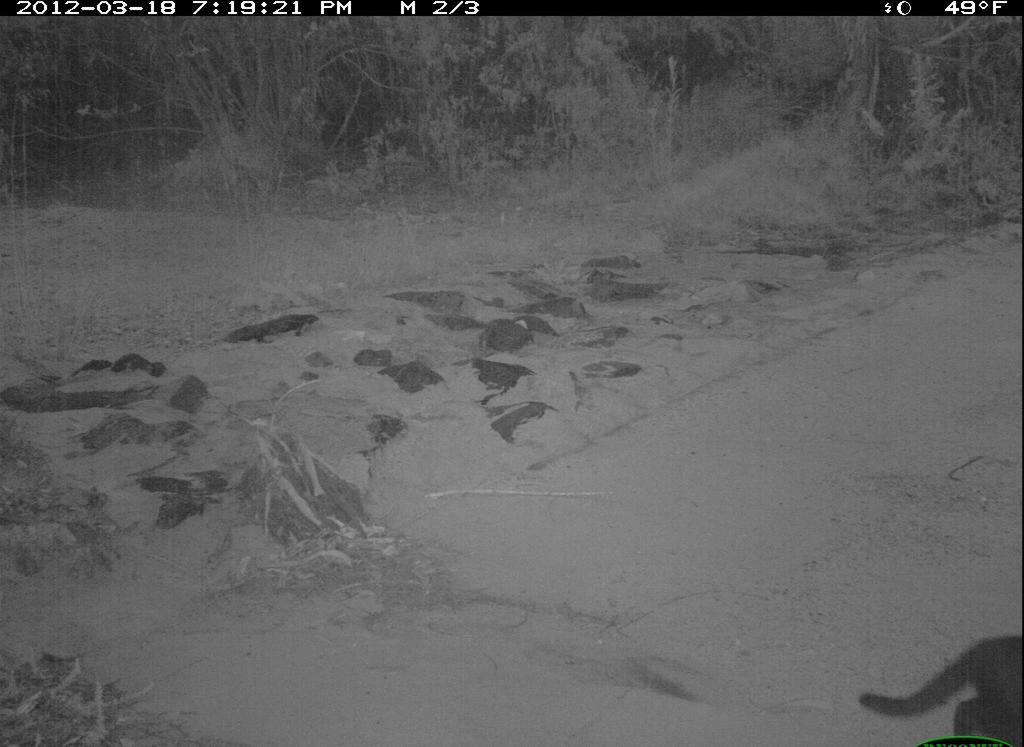cat: (866, 603, 1023, 747)
